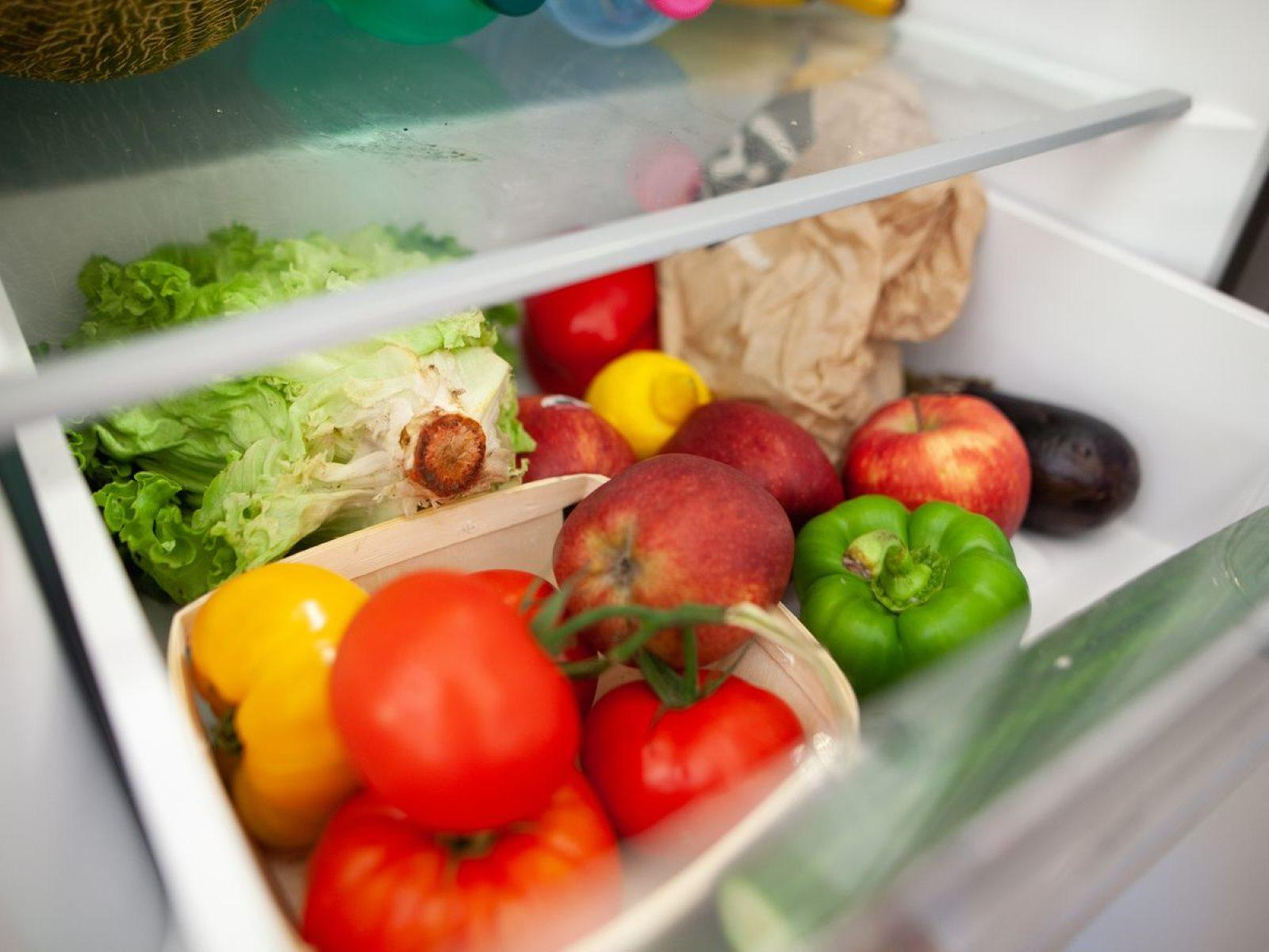bell pepper: (789, 472, 1102, 679)
tomato: (339, 568, 826, 860)
